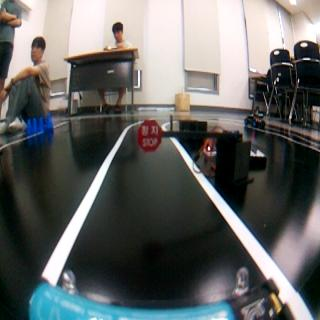stop: (138, 119, 162, 152)
